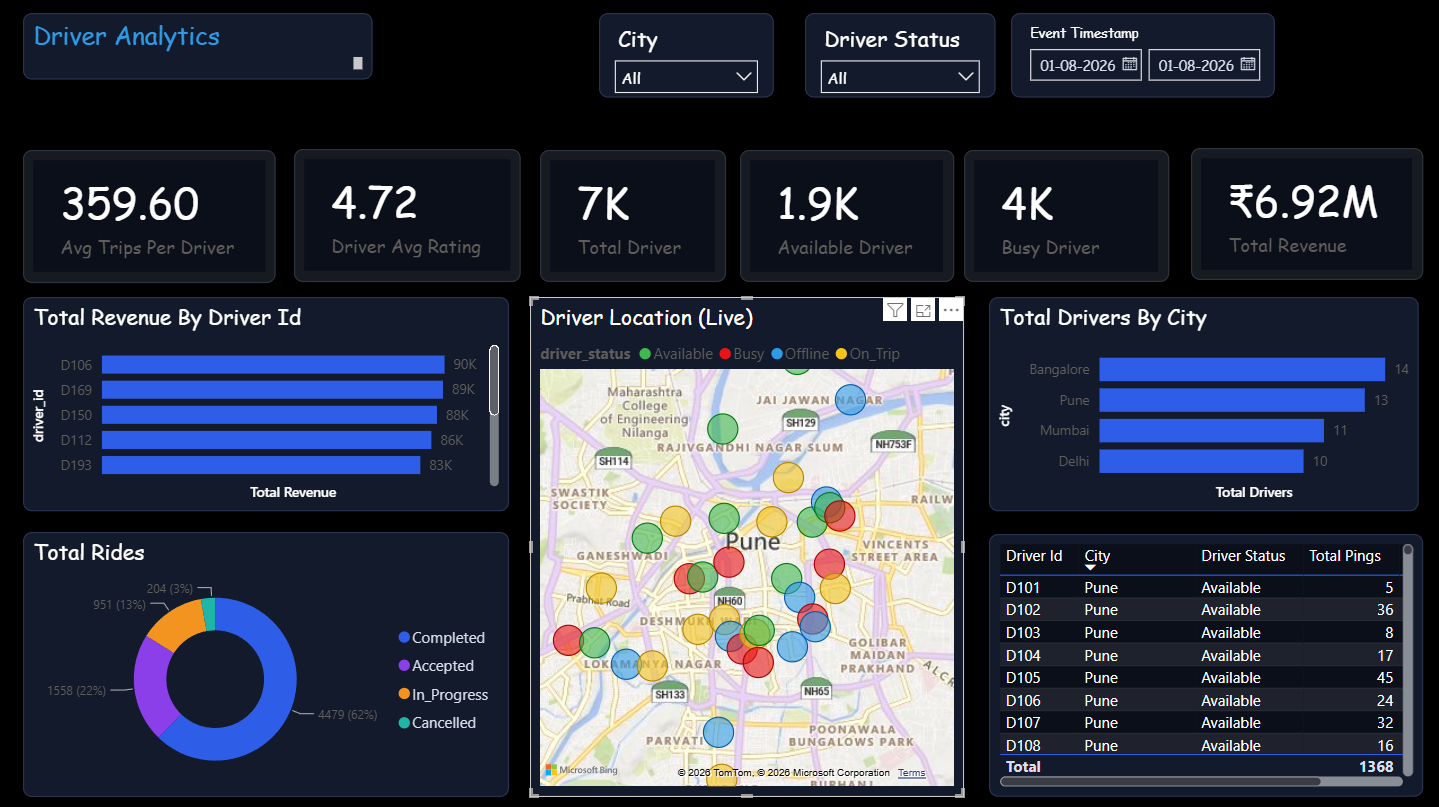

The page's visual inventory and layout, read from the dashboard file:
{"tool":"powerbi","page":{"name":"Driver Analytics","canvas":[1280,720],"ordinal":1},"visuals":[{"type":"slicer","fields":{"Values":["fact_ride_events.event_timestamp"]},"box":[899.1,12.4,234.1,75.4],"z":0},{"type":"slicer","fields":{"Values":["dim_driver2.city"]},"box":[533.8,12.4,155.2,75.4],"z":1000},{"type":"slicer","fields":{"Values":["dim_driver2.driver_status"]},"box":[716.5,12.4,169.4,75.4],"z":2000},{"type":"donutChart","title":"Total Rides","fields":{"Category":["fact_ride_events.clean_ride_status"],"Y":["_Measures.Total Rides"]},"box":[23.1,472.6,430.9,235],"z":3000},{"type":"clusteredBarChart","title":"Total Revenue By Driver Id","fields":{"Category":["fact_ride_events.driver_id"],"Y":["_Measures.Total Revenue"]},"box":[23.1,264.2,430.9,189.8],"z":4000},{"type":"clusteredBarChart","title":"Total Drivers By City","fields":{"Y":["_Measures2.Total Drivers"],"Category":["dim_driver2.city"]},"box":[879.6,264.2,381.3,189.8],"z":5000},{"type":"map","title":"Driver Location (Live)","fields":{"X":["dim_driver2.last_longitude"],"Y":["dim_driver2.last_latitude"],"Series":["dim_driver2.driver_status"],"Size":["CountNonNull(dim_driver2.driver_id)"]},"box":[472.6,264.2,384.8,443.3],"z":6000},{"type":"tableEx","fields":{"Values":["dim_driver2.driver_id","fact_revenue_summary2.pickup_city","dim_driver2.driver_status","Sum(dim_driver2.total_pings)","_Measures.Total Revenue"]},"box":[879.6,474.4,384.8,233.2],"z":7000},{"type":"cardVisual","fields":{"Data":["_Measures2.Available Driver"]},"box":[658.8,133.9,189.8,117],"z":8000},{"type":"cardVisual","fields":{"Data":["_Measures2.Total Driver"]},"box":[481.5,133.9,164.9,117],"z":9000},{"type":"cardVisual","fields":{"Data":["_Measures2.Busy Driver"]},"box":[857.4,133.9,181.8,117],"z":10000},{"type":"cardVisual","fields":{"Data":["_Measures2.Avg Driver Rating"]},"box":[263.3,133,201.3,117.9],"z":11000},{"type":"cardVisual","fields":{"Data":["_Measures.Total Revenue"]},"box":[1058.7,132.1,205.7,117],"z":12000},{"type":"textbox","title":"Driver Analytics","box":[23.1,12.4,310.3,59.4],"z":13000},{"type":"cardVisual","fields":{"Data":["_Measures2.Avg Trips Per Driver"]},"box":[23.1,133.9,224.3,117.9],"z":14000}]}

Visuals, with their boxes in screenshot pixels (x1, y1, x2, y2), scaled from the page's 1280x720 canvas onto the 1439x807 screenshot:
slicer - fact_ride_events.event_timestamp: [left=1011, top=14, right=1274, bottom=98]
slicer - dim_driver2.city: [left=600, top=14, right=775, bottom=98]
slicer - dim_driver2.driver_status: [left=806, top=14, right=996, bottom=98]
"Total Rides" donutChart: [left=26, top=530, right=510, bottom=793]
"Total Revenue By Driver Id" clusteredBarChart: [left=26, top=296, right=510, bottom=509]
"Total Drivers By City" clusteredBarChart: [left=989, top=296, right=1418, bottom=509]
"Driver Location (Live)" map: [left=531, top=296, right=964, bottom=793]
tableEx - dim_driver2.driver_id x fact_revenue_summary2.pickup_city: [left=989, top=532, right=1421, bottom=793]
cardVisual - _Measures2.Available Driver: [left=741, top=150, right=954, bottom=281]
cardVisual - _Measures2.Total Driver: [left=541, top=150, right=727, bottom=281]
cardVisual - _Measures2.Busy Driver: [left=964, top=150, right=1168, bottom=281]
cardVisual - _Measures2.Avg Driver Rating: [left=296, top=149, right=522, bottom=281]
cardVisual - _Measures.Total Revenue: [left=1190, top=148, right=1421, bottom=279]
"Driver Analytics" textbox: [left=26, top=14, right=375, bottom=80]
cardVisual - _Measures2.Avg Trips Per Driver: [left=26, top=150, right=278, bottom=282]
